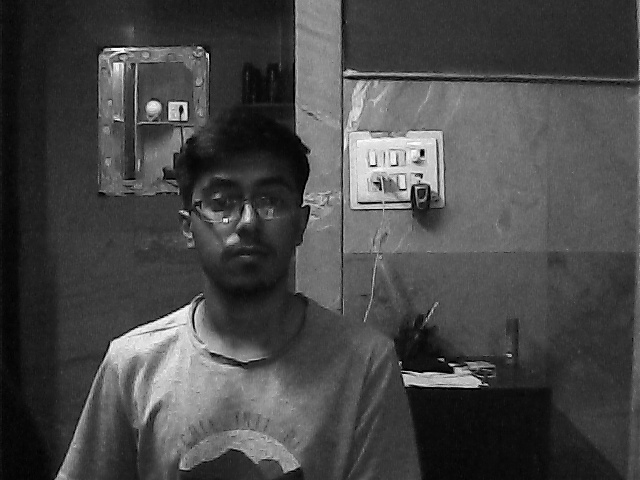nomask: (185, 153, 305, 299)
